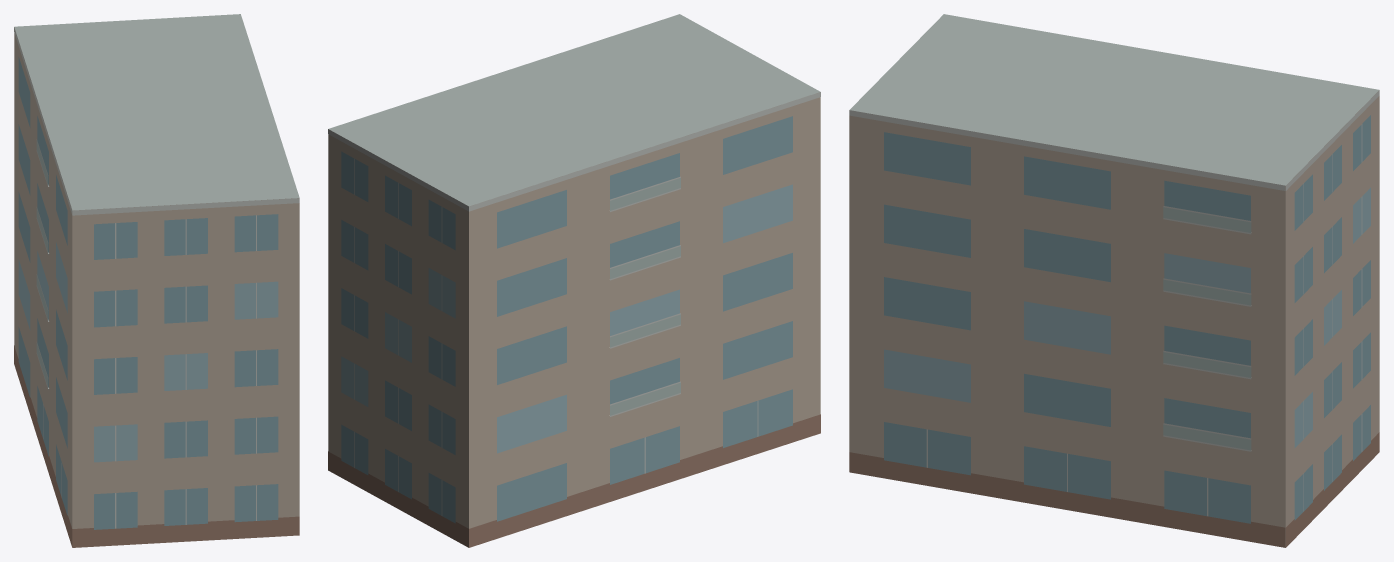
File: survey-upis-32566683.glb
3 views of the same model, side by side, from view 1: azimuth 30°, elevation 25°; view 2: azimuth 150°, elevation 25°; view 3: azimuth 270°, elevation 25° (orthographic). The views are drawn at different scales.
Parts seen in each view (by area): view 1: survey-upis-32566683.tmp; view 2: survey-upis-32566683.tmp; view 3: survey-upis-32566683.tmp.
Boxes of the visible parts, <box> form: survey-upis-32566683.tmp: <box>14,14,299,547</box>; survey-upis-32566683.tmp: <box>328,14,820,547</box>; survey-upis-32566683.tmp: <box>849,14,1379,547</box>.
Size of the model in its own units: 16.34 by 16.07 by 21.33.
